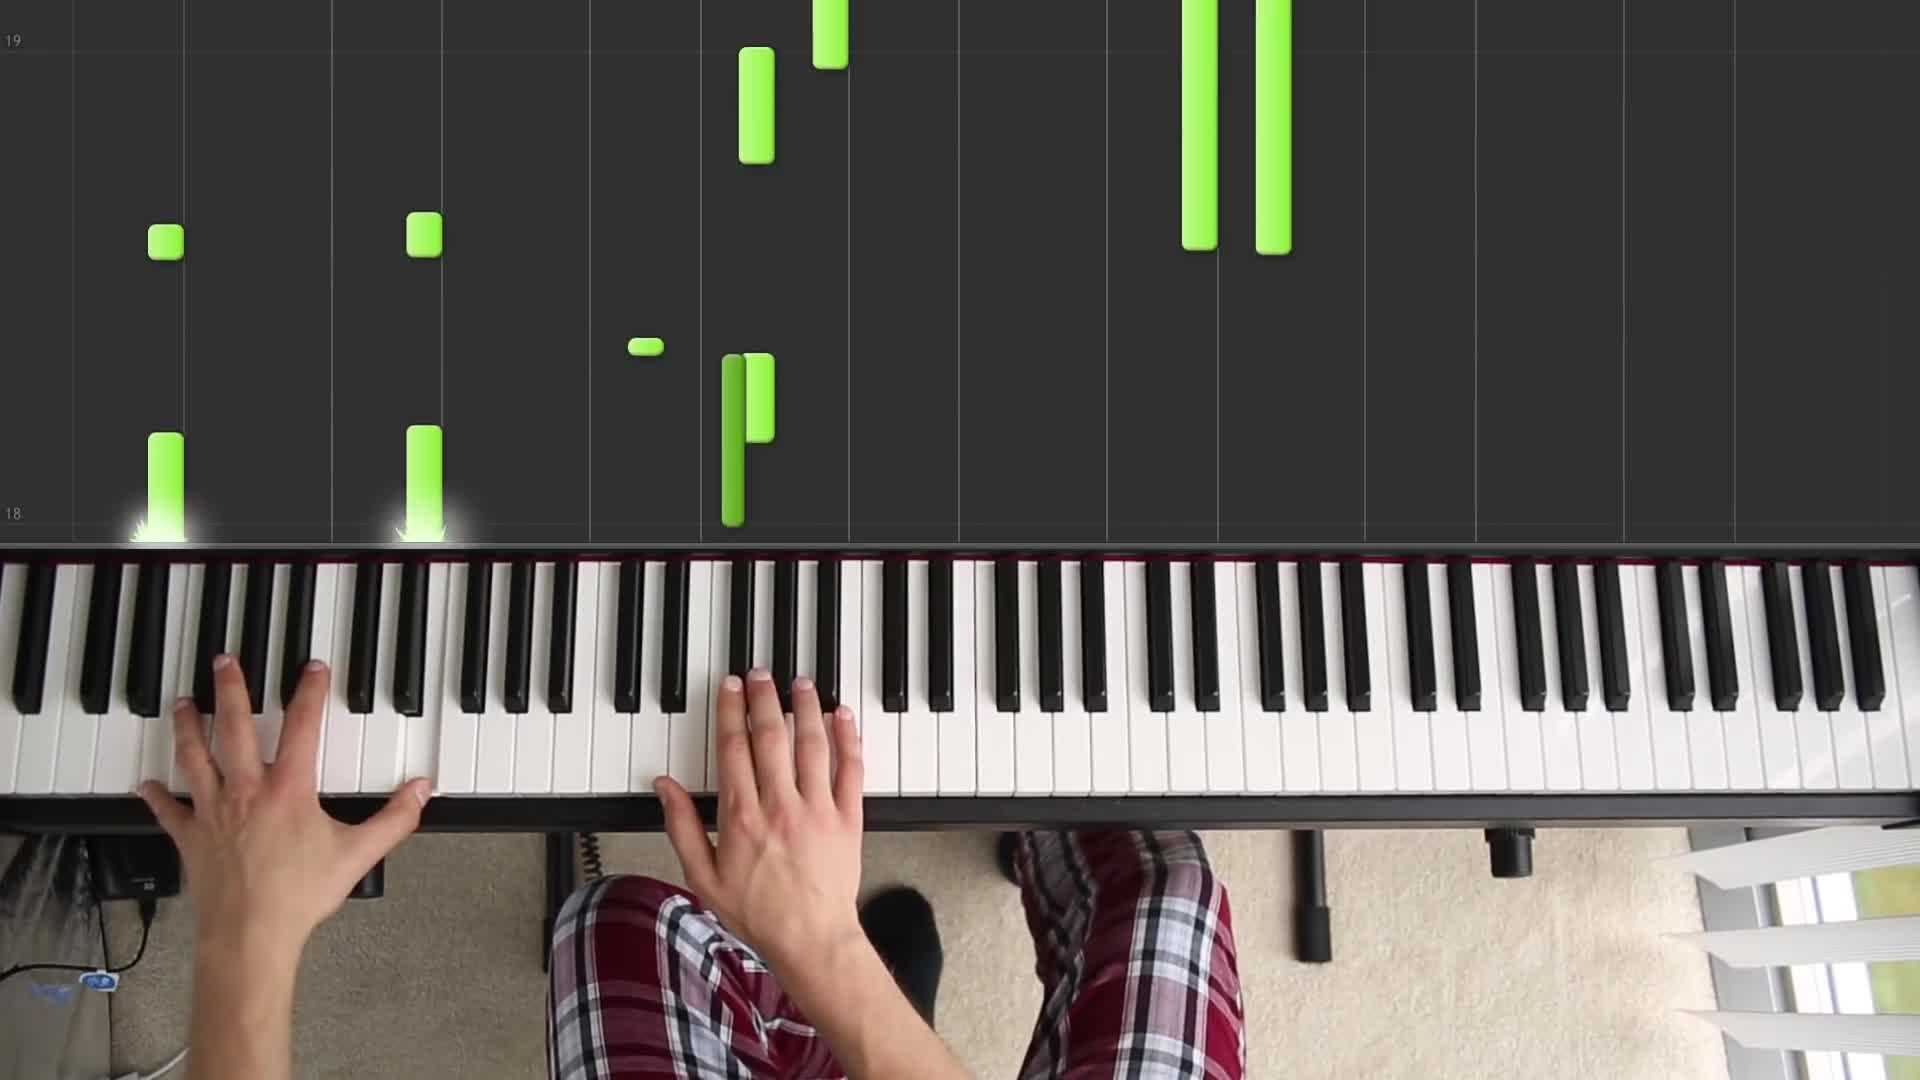left: (144, 651, 429, 928)
right: (654, 662, 861, 936)
